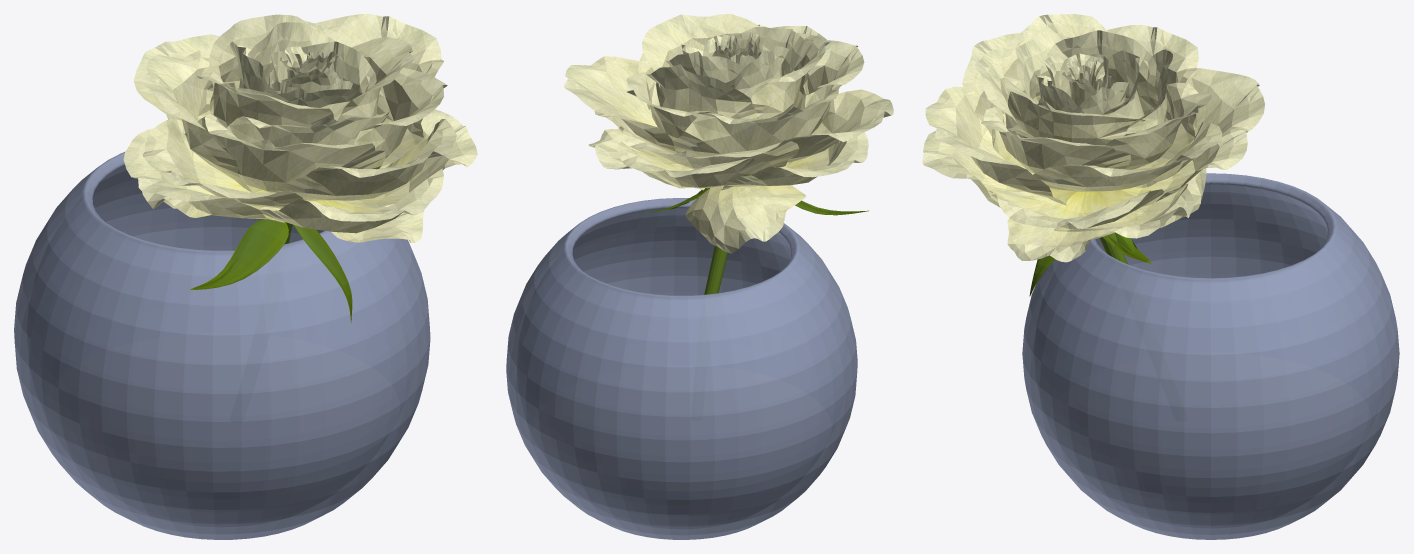
The model's file is vase_rose.glb.
The picture shows the model from 3 angles, left to right: view 1: azimuth 30°, elevation 25°; view 2: azimuth 150°, elevation 25°; view 3: azimuth 270°, elevation 25°; orthographic projection. The views are drawn at different scales.
Parts seen in each view (by area): view 1: Object01, Line2907, Line2908, Line2917, Line2911, Line2913, Object02, Line2915, Line2914, Line2902, Line2906, Line2904 (+12 smaller); view 2: Object01, Line2919, Line2908, Line2914, Line2903, Line2911, Line2881, Line2906, Line2909, Line2902, Line2910, Line2907 (+7 smaller); view 3: Object01, Line2917, Line2912, Line2910, Line2881, Line2914, Line2915, Line2905, Line2908, Line2883, Line2918, Line2909 (+11 smaller).
Boxes of the visible parts, x1,y1,x2,y2 form: Object01: [14, 152, 430, 539]; Line2907: [184, 113, 385, 192]; Line2908: [142, 50, 262, 192]; Line2917: [275, 119, 456, 200]; Line2911: [142, 118, 303, 208]; Line2913: [259, 168, 443, 233]; Object02: [190, 219, 352, 322]; Line2915: [354, 67, 447, 158]; Line2914: [314, 14, 443, 166]; Line2902: [197, 66, 338, 127]; Line2906: [123, 128, 284, 222]; Line2904: [226, 111, 389, 146]; Object01: [506, 198, 857, 539]; Line2919: [685, 185, 806, 253]; Line2908: [672, 89, 838, 156]; Line2914: [564, 56, 677, 153]; Line2903: [646, 64, 757, 119]; Line2911: [787, 89, 893, 162]; Line2881: [642, 14, 760, 87]; Line2906: [721, 132, 868, 190]; Line2909: [616, 141, 772, 188]; Line2902: [751, 33, 829, 118]; Line2910: [618, 125, 799, 169]; Line2907: [793, 40, 864, 137]; Object01: [1022, 173, 1399, 539]; Line2917: [925, 86, 1076, 205]; Line2912: [987, 189, 1163, 229]; Line2910: [1134, 68, 1264, 187]; Line2881: [1004, 78, 1144, 144]; Line2914: [1033, 122, 1222, 191]; Line2915: [981, 107, 1131, 173]; Line2905: [1106, 82, 1212, 169]; Line2908: [1106, 24, 1198, 168]; Line2883: [1036, 30, 1158, 115]; Line2918: [1007, 218, 1115, 262]; Line2909: [1122, 117, 1248, 206].
Size of the model in its own units: 127 by 167 by 160.
Materials: 4 (2 with a texture image).
